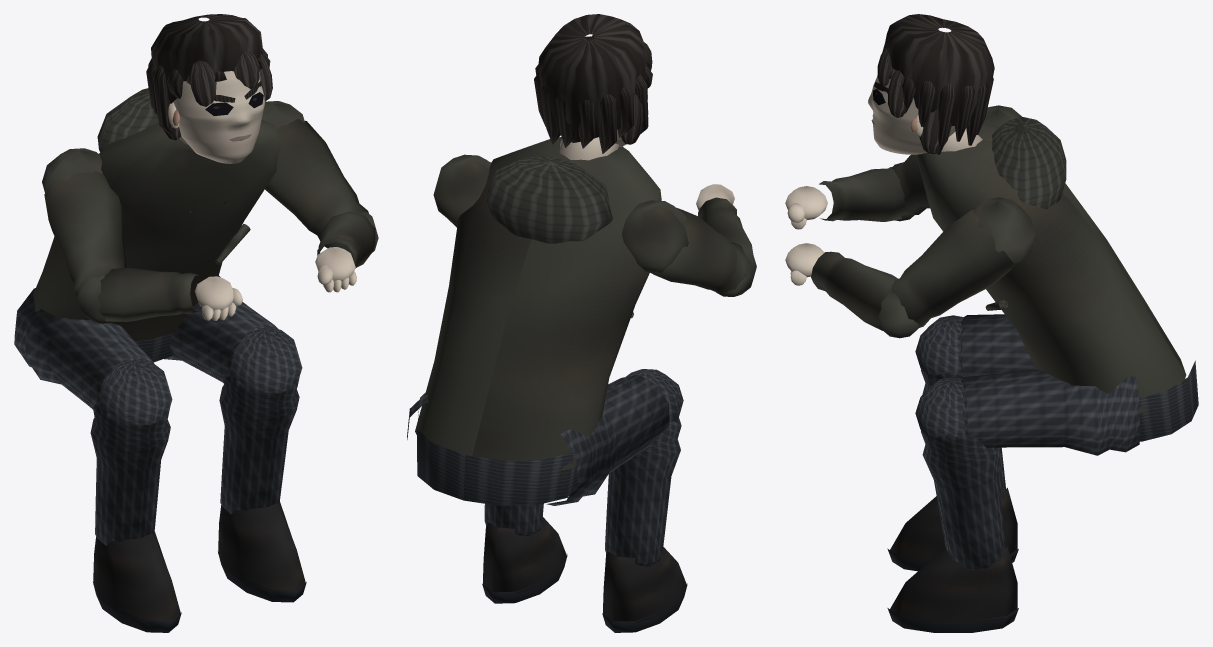
Rendered from HERO-07_zheka-seated.glb.
The picture shows the model from 3 angles, left to right: view 1: azimuth 30°, elevation 25°; view 2: azimuth 150°, elevation 25°; view 3: azimuth 270°, elevation 25°; orthographic projection. The views are drawn at different scales.
Visible parts, largest first — view 1: zheka · soles; view 2: zheka · soles; view 3: zheka · soles.
Part boxes in pixels (x1=…): zheka · soles: x1=14, y1=14, x2=378, y2=632; zheka · soles: x1=407, y1=14, x2=756, y2=632; zheka · soles: x1=785, y1=14, x2=1198, y2=632.
Bounding box in the file's own units: 0.6949 × 1.31 × 0.8634.
2 materials, 2 textured.
